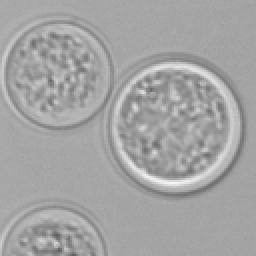picoshell: (102, 52, 244, 196), (2, 12, 114, 132), (0, 200, 110, 256)
